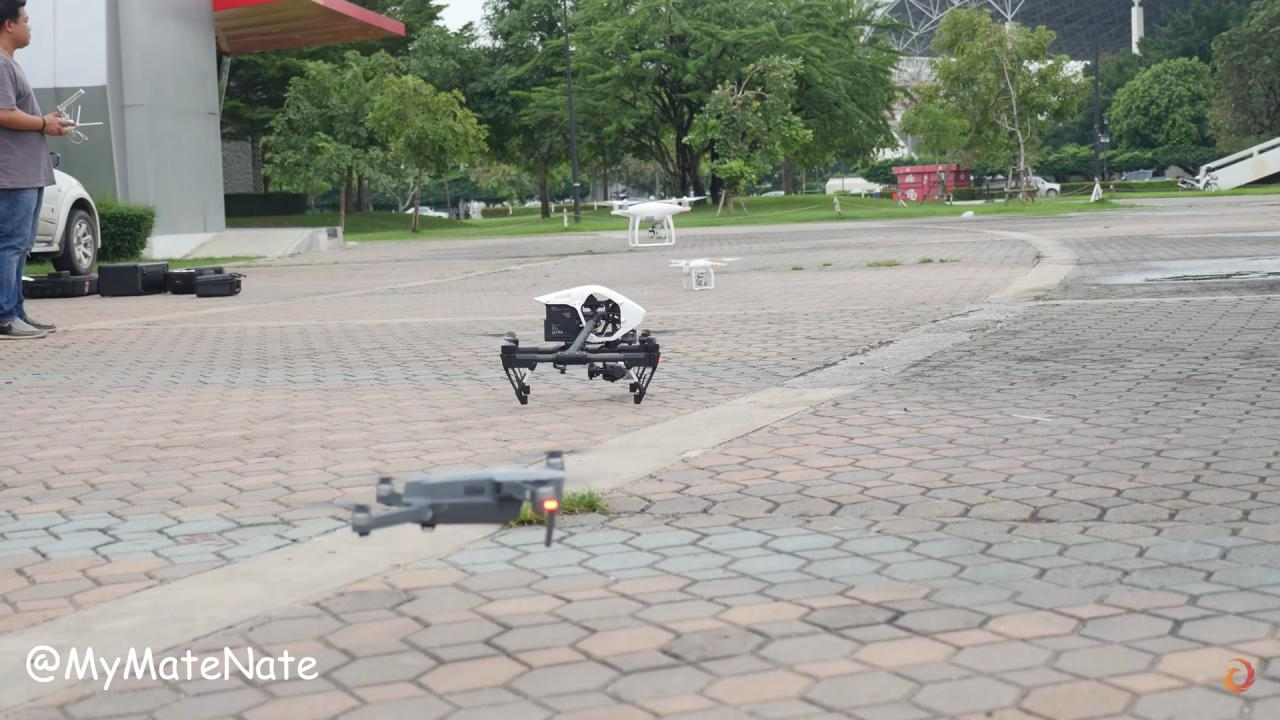Drone: (327, 437, 587, 558), (486, 277, 674, 409), (592, 185, 718, 252), (659, 252, 745, 294)
